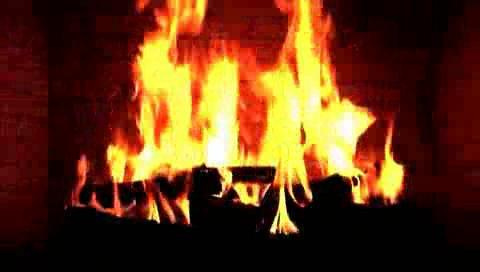fire: (132, 11, 344, 219)
